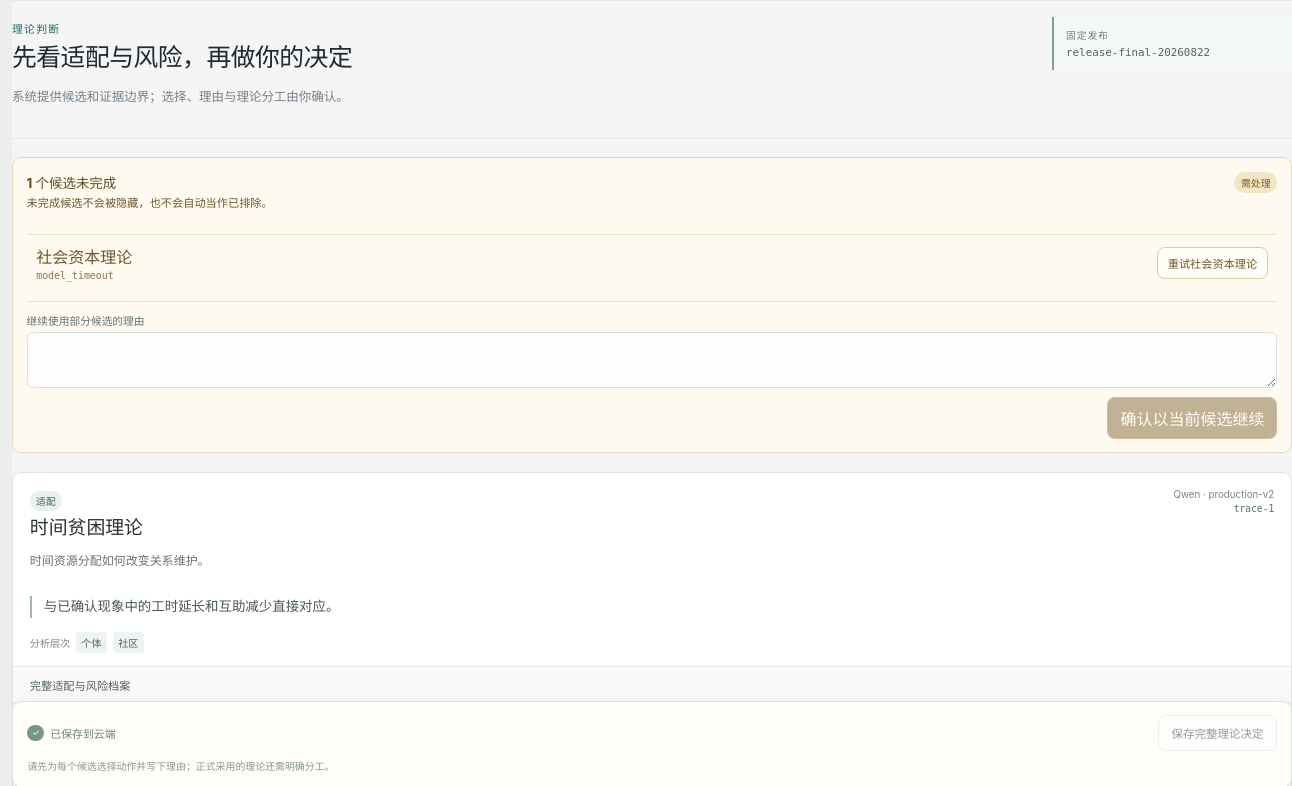
Test: M4TheoryJudgment › persists an edited partial acknowledgement before advancing to the server draft version
Type "先使用当前可靠候选，并保留未完成项的风险。" into the text box labelled "继续使用部分候选的理由". click: (652, 360)
box: [27, 332, 1277, 388]
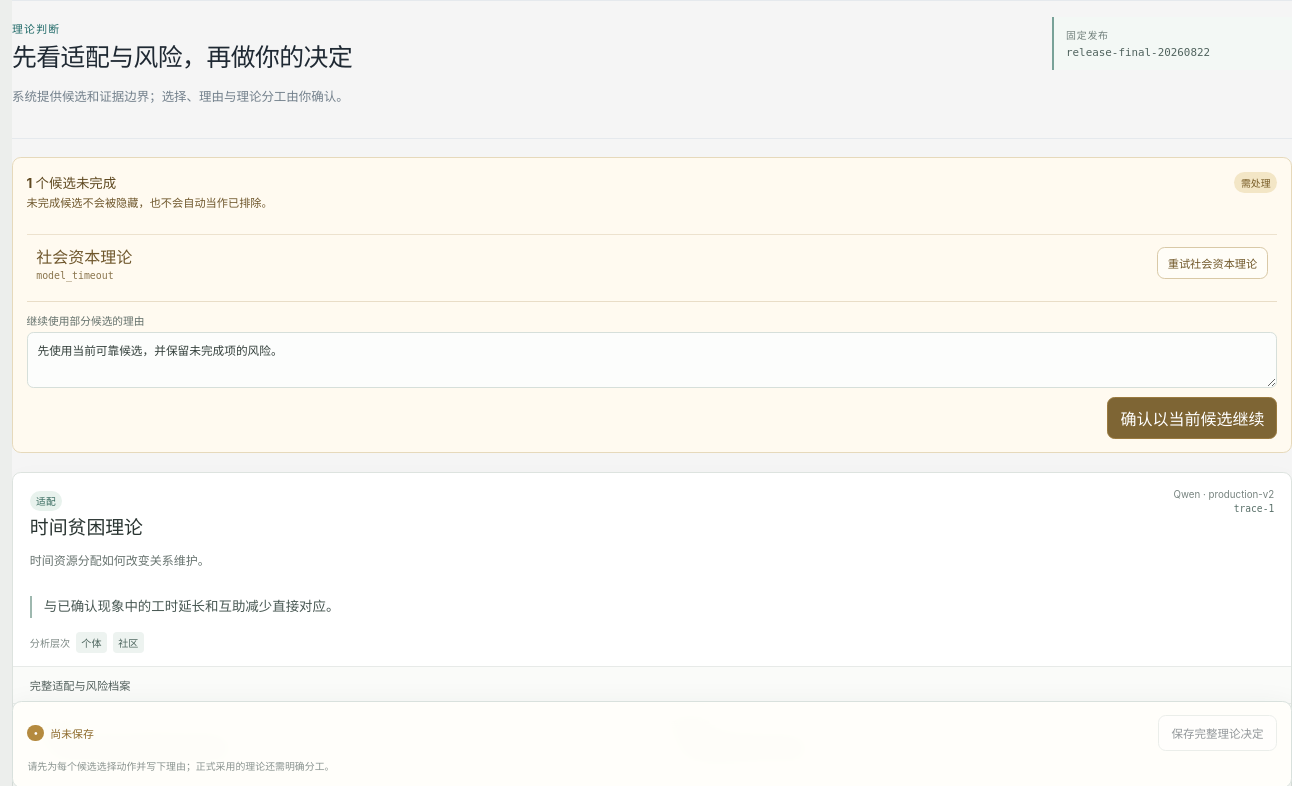
Click the button "确认以当前候选继续". click: (1192, 418)
box: [1107, 397, 1277, 439]
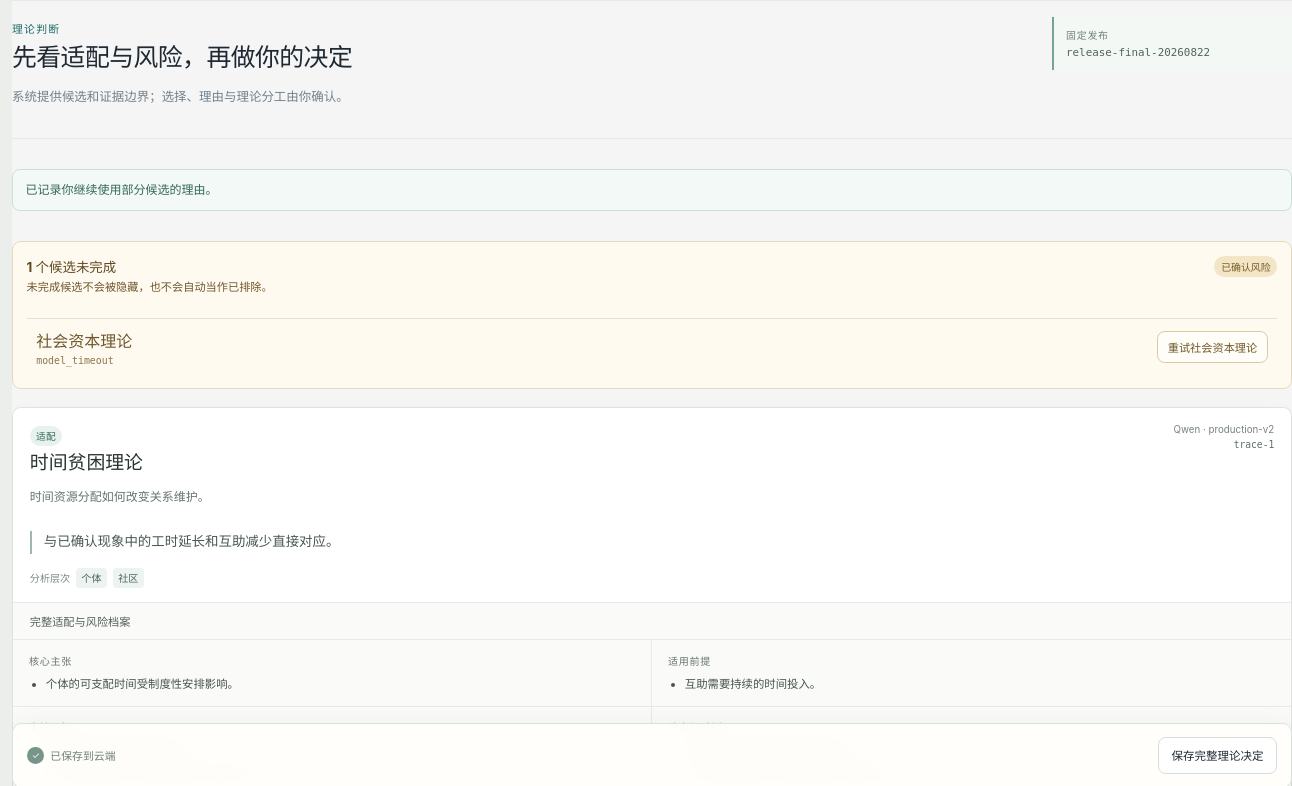
Expected: the text "已记录你继续使用部分候选的理由。" is shown, [12, 169, 1291, 211]
Expected: the text "✓ 已保存到云端" is shown, [27, 747, 116, 764]
